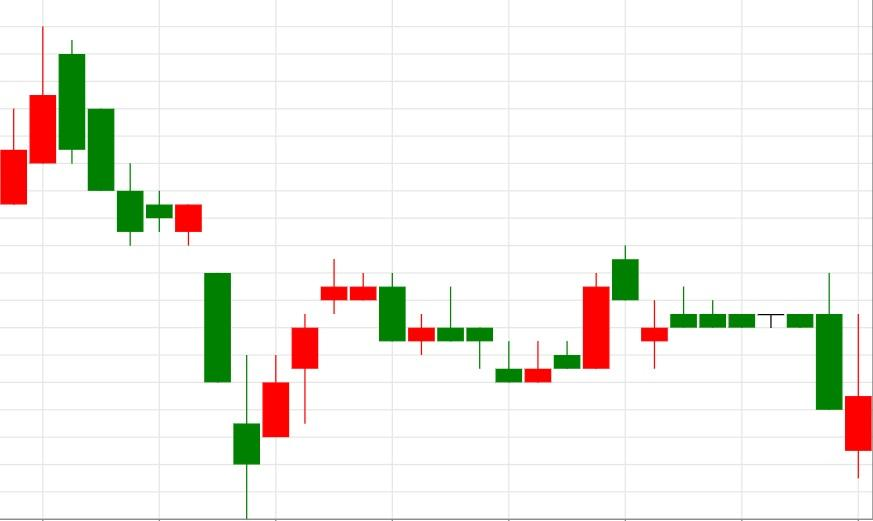bearish_engulfing_fall: (232, 259, 407, 519)
bullish_engulfing_rise: (348, 272, 552, 384)
